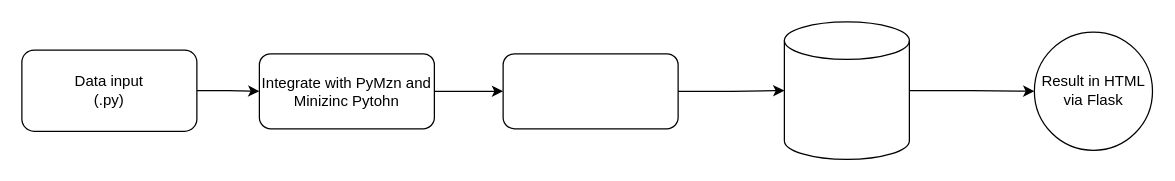
The diagram is 1175 pixels wide and 181 high, and some of its shapes have lost their labels. The shapes that lost their labels are listed below. From the top down, each one's centre as x and y in pixels, then its label:
At (590,90): "Flask Framework".
At (846,90): "Minizinc Model (.mzn)".
